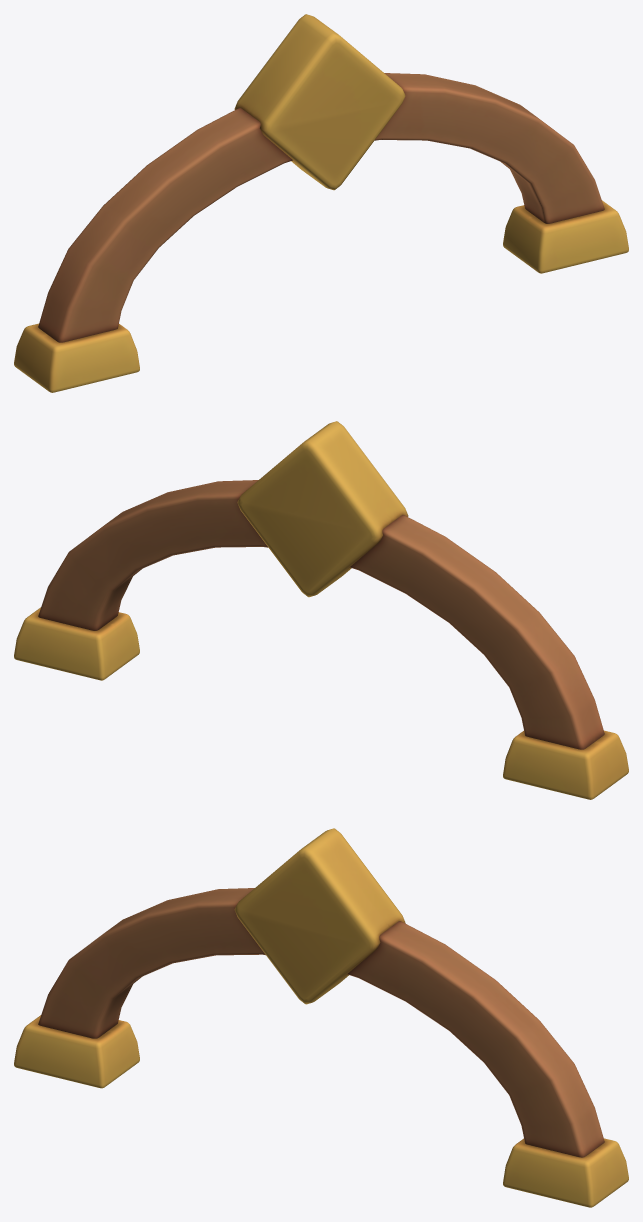
File: Picinic_Fense.fbx
3 renders of one model, top to bottom at view 1: azimuth 30°, elevation 25°; view 2: azimuth 150°, elevation 25°; view 3: azimuth 330°, elevation 25°, orthographic.
Visible parts, largest first — view 1: Picinic_Fense; view 2: Picinic_Fense; view 3: Picinic_Fense.
Boxes of the visible parts, x1,y1,x2,y2 form: Picinic_Fense: (14,14,628,392); Picinic_Fense: (14,421,628,799); Picinic_Fense: (14,828,628,1207).
Size of the model in its own units: 291 by 137 by 33.53.
